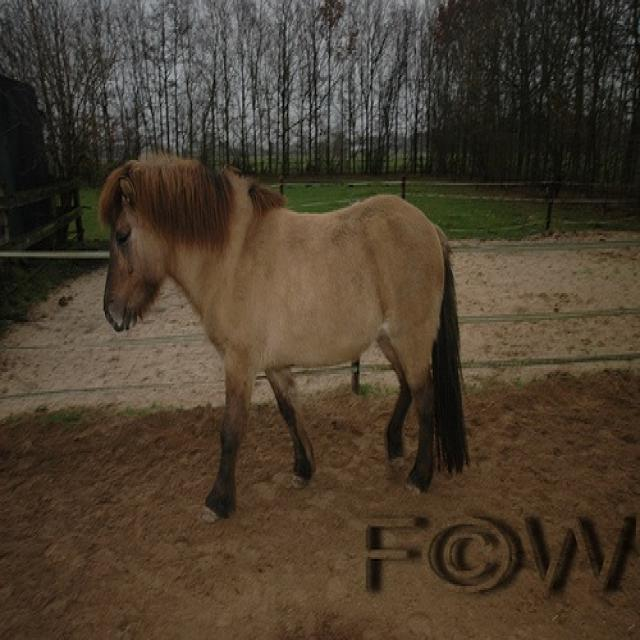horse: (100, 152, 467, 520)
